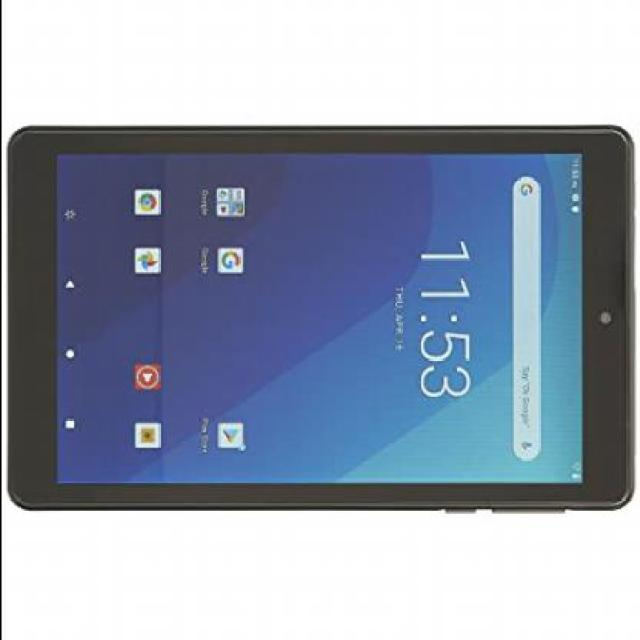smart phone: (1, 100, 640, 540)
